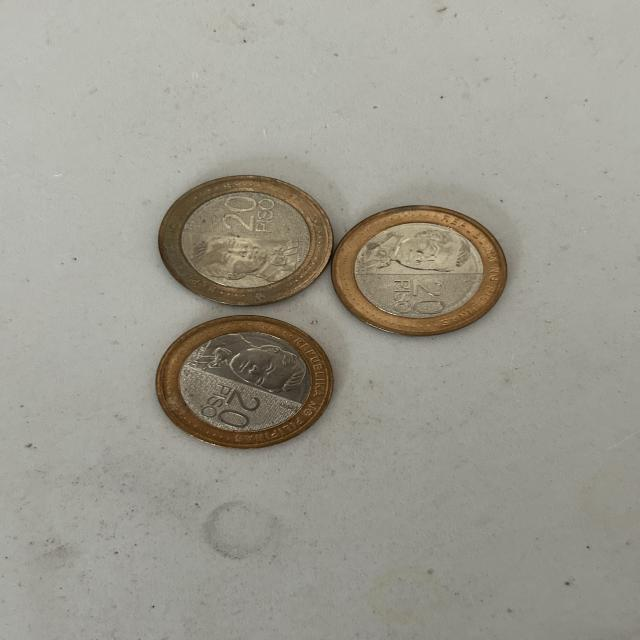20_New_Front: (199, 382, 263, 430), (387, 274, 451, 322), (218, 191, 276, 238)
